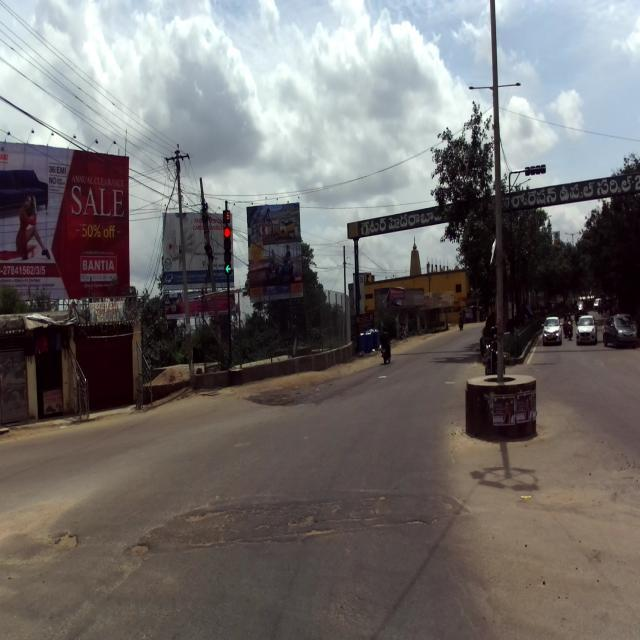Pothole: (347, 489, 439, 531), (277, 502, 335, 545), (177, 499, 244, 531), (49, 518, 87, 570), (125, 527, 153, 568)
